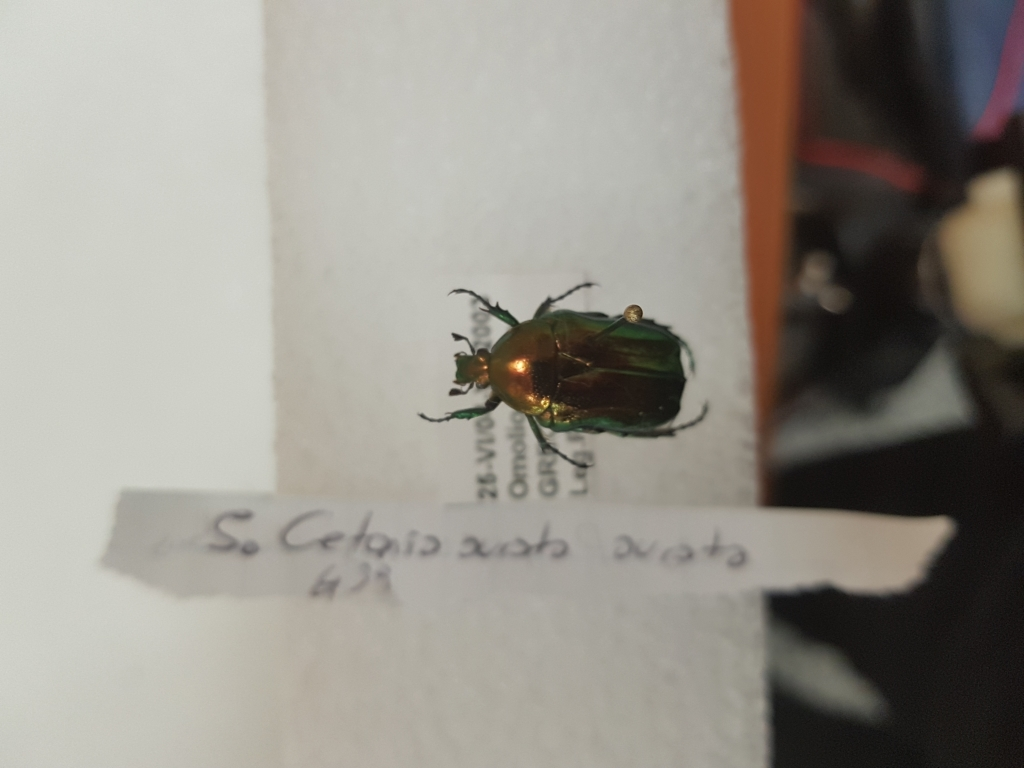Cetonia_aurata: (434, 272, 727, 461)
